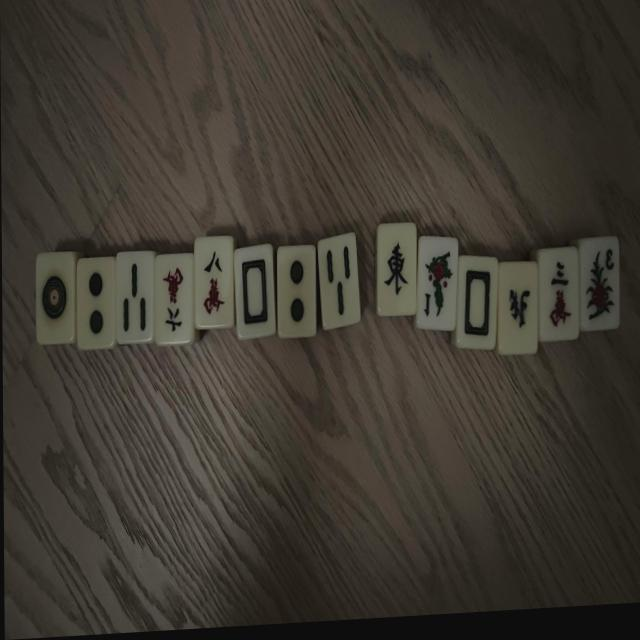1D: (35, 251, 76, 346)
1F: (416, 237, 458, 332)
2D: (274, 243, 317, 338), (76, 255, 118, 349)
3B: (315, 233, 359, 330), (114, 251, 153, 343)
3C: (537, 246, 579, 342)
3F: (579, 237, 620, 333)
6C: (154, 254, 194, 346)
8C: (194, 237, 234, 330)
EW: (375, 222, 416, 317)
NW: (496, 262, 539, 355)
WD: (456, 256, 498, 351), (234, 244, 276, 338)
